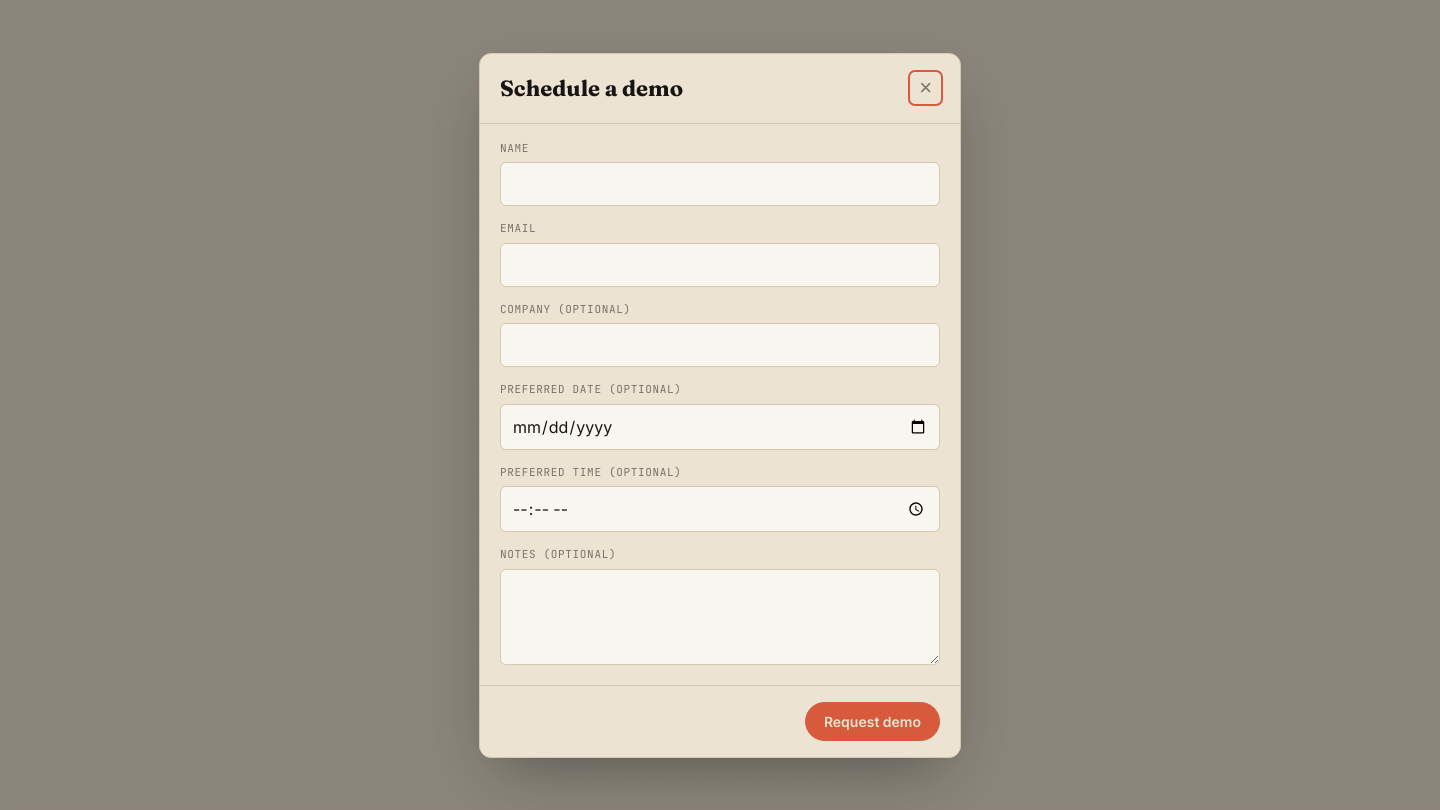
Test: ScheduleDemoDialog › submits only the required fields when the optional ones are empty
Type "Ada" into the field labelled "Name" at (720, 184), box [500,162,940,206]
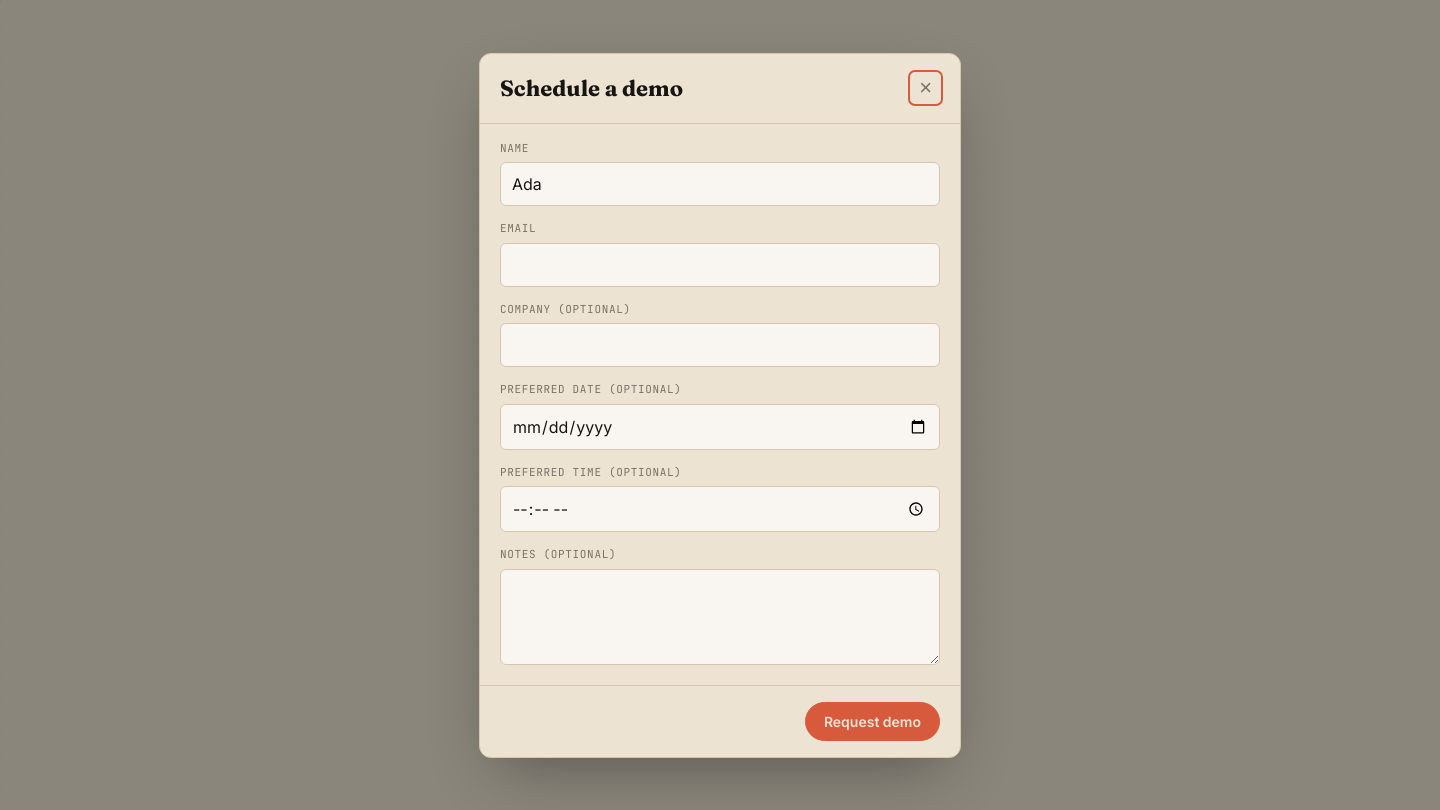
Type "ada@example.com" into the field labelled "Email" at (720, 264), box [500,242,940,286]
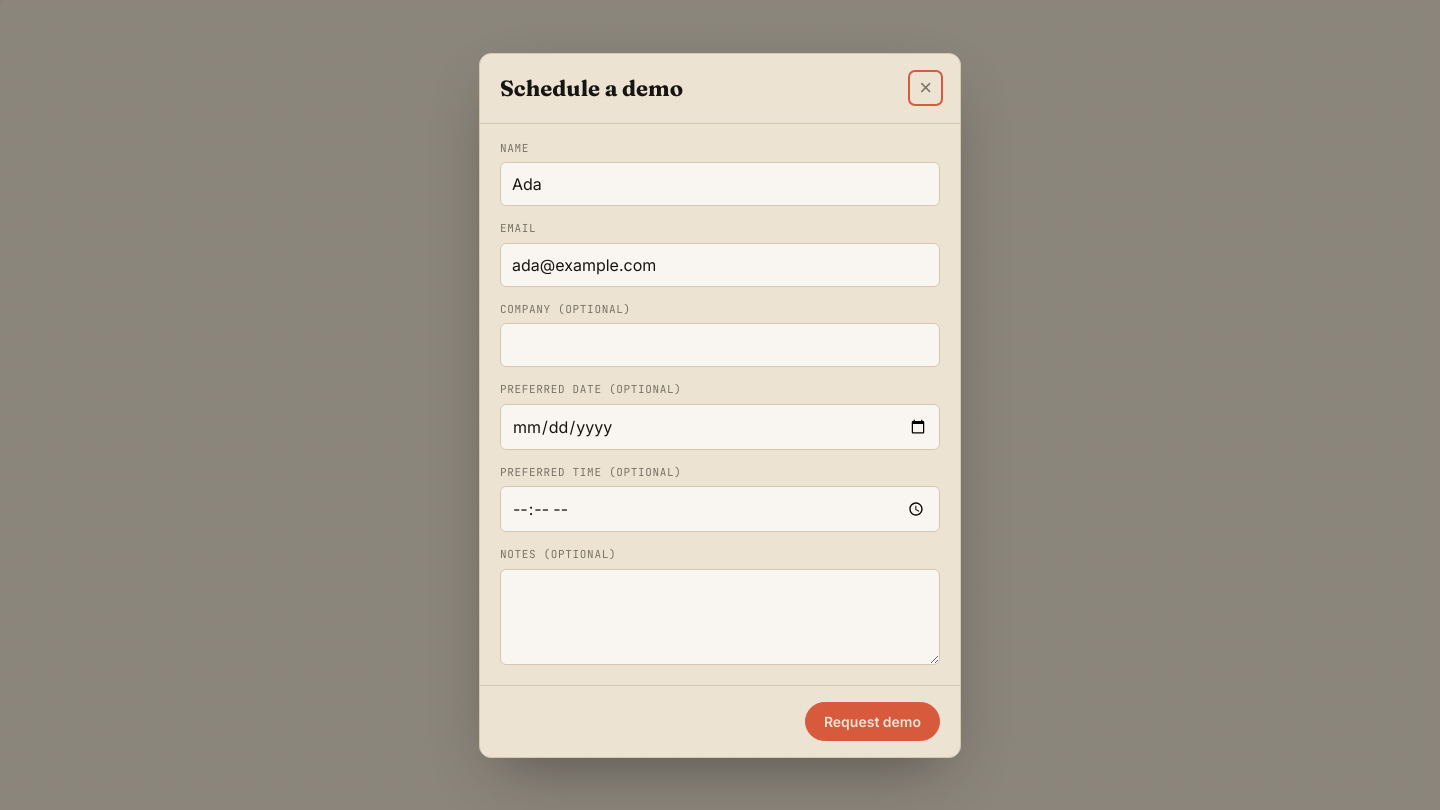
Click the button "Request demo" at (872, 721), box [805,702,940,740]
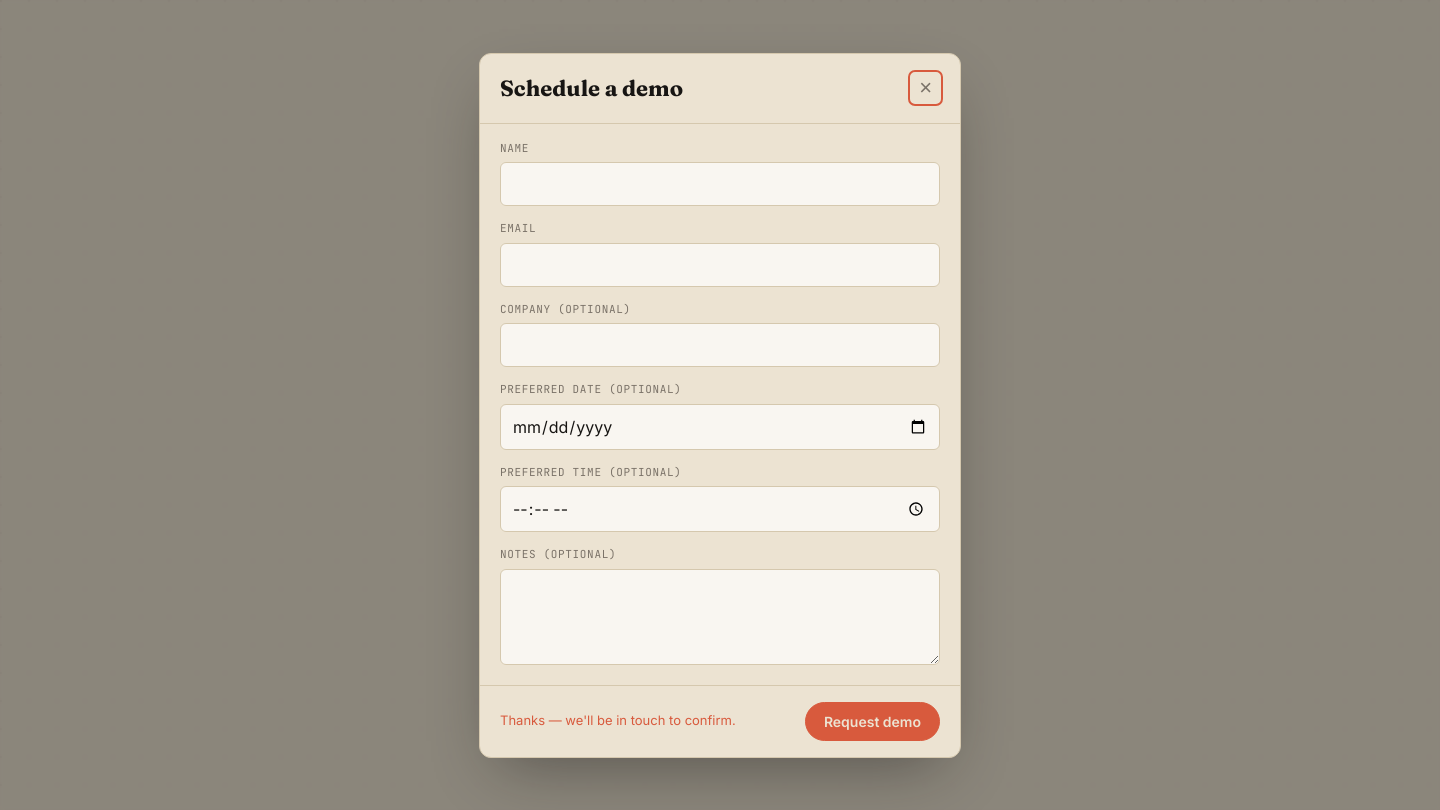
Expected: the text "Thanks — we'll be in touch to confirm." is shown, [500,712,736,728]
